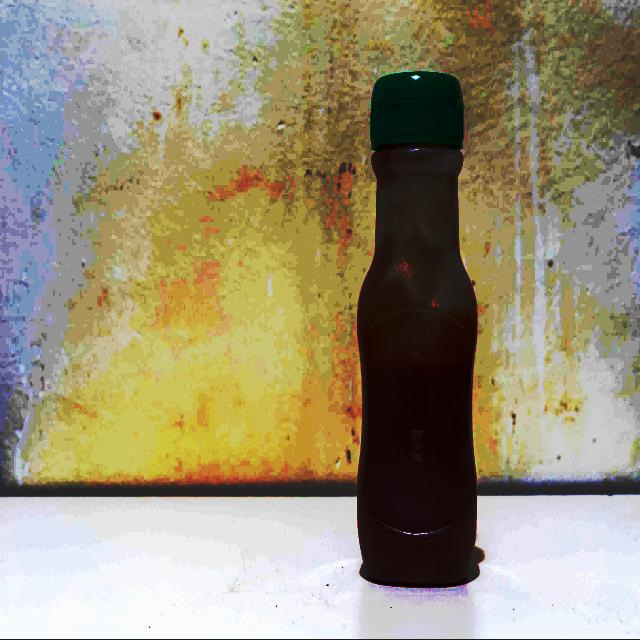ketchup: (352, 65, 480, 592)
